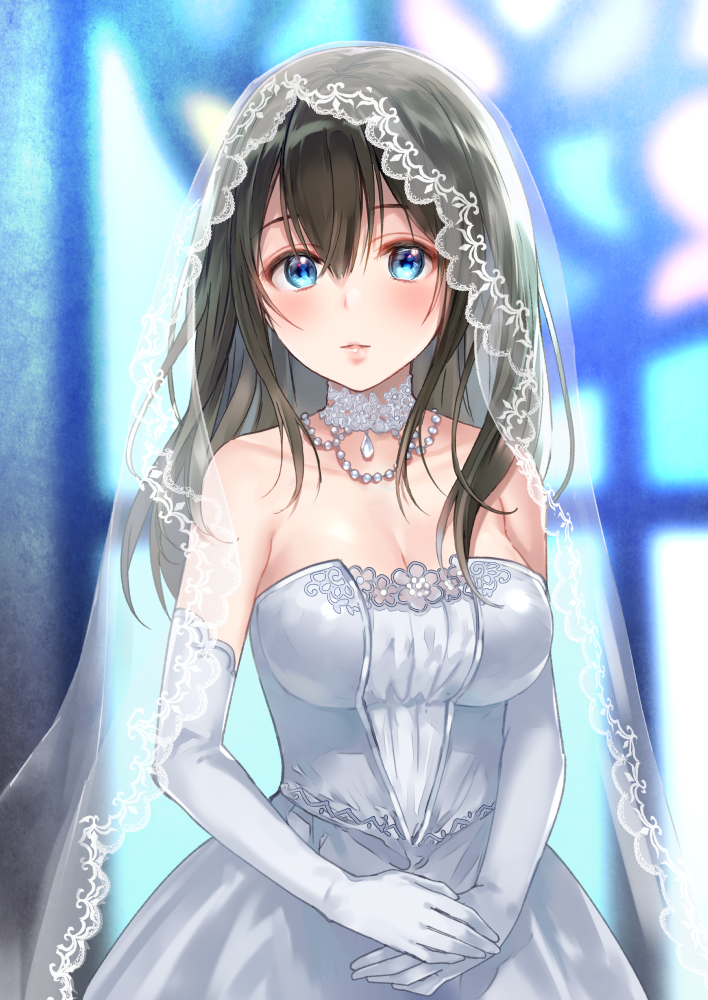纸片人正脸: (188, 44, 517, 397)
